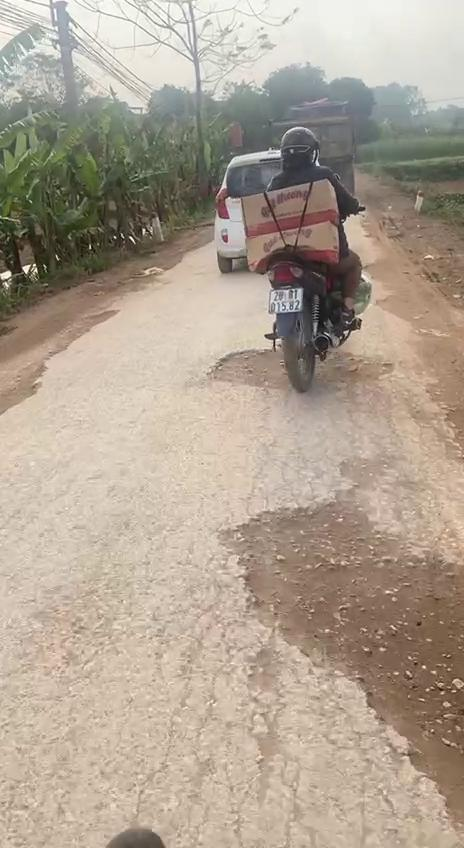pothole: (215, 481, 464, 842), (0, 304, 124, 416), (207, 344, 402, 398)
